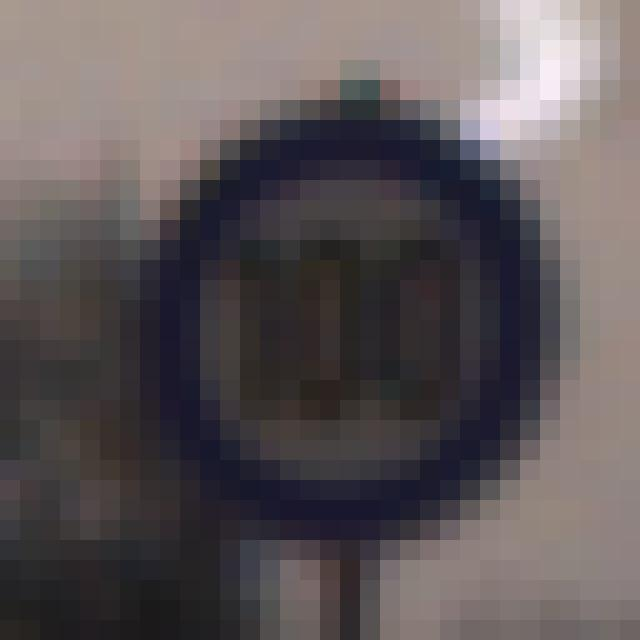SPEED LIMIT 100: (134, 105, 564, 544)
